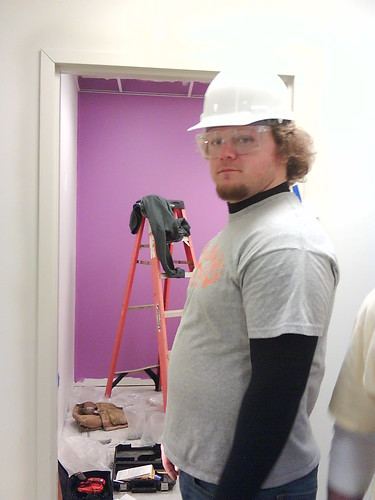person hardhat: (165, 59, 330, 500)
